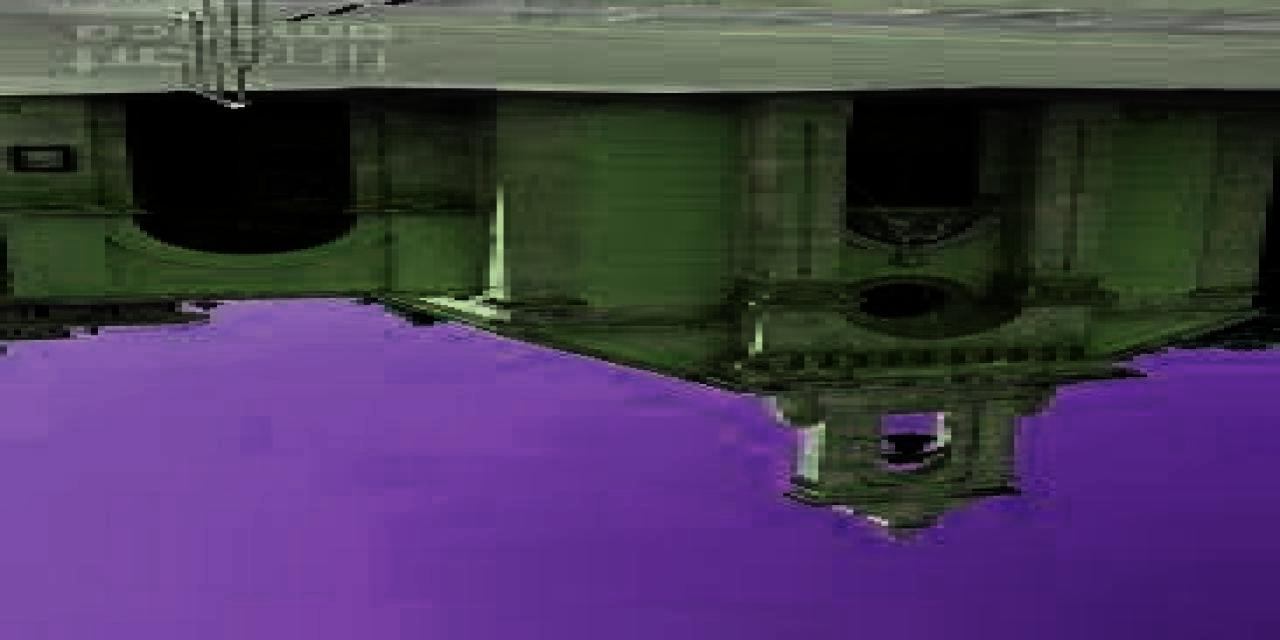Agios Minas: (1, 91, 1272, 542)
